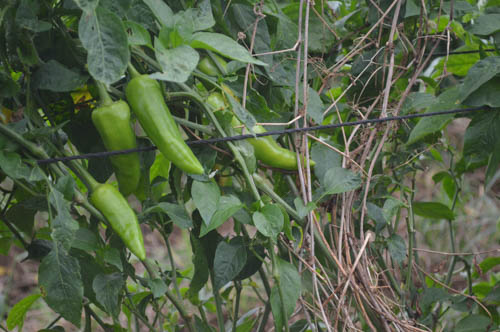ChiliPepper: (129, 76, 205, 176), (94, 102, 140, 190), (96, 185, 145, 258), (244, 123, 312, 171), (204, 93, 234, 127)
